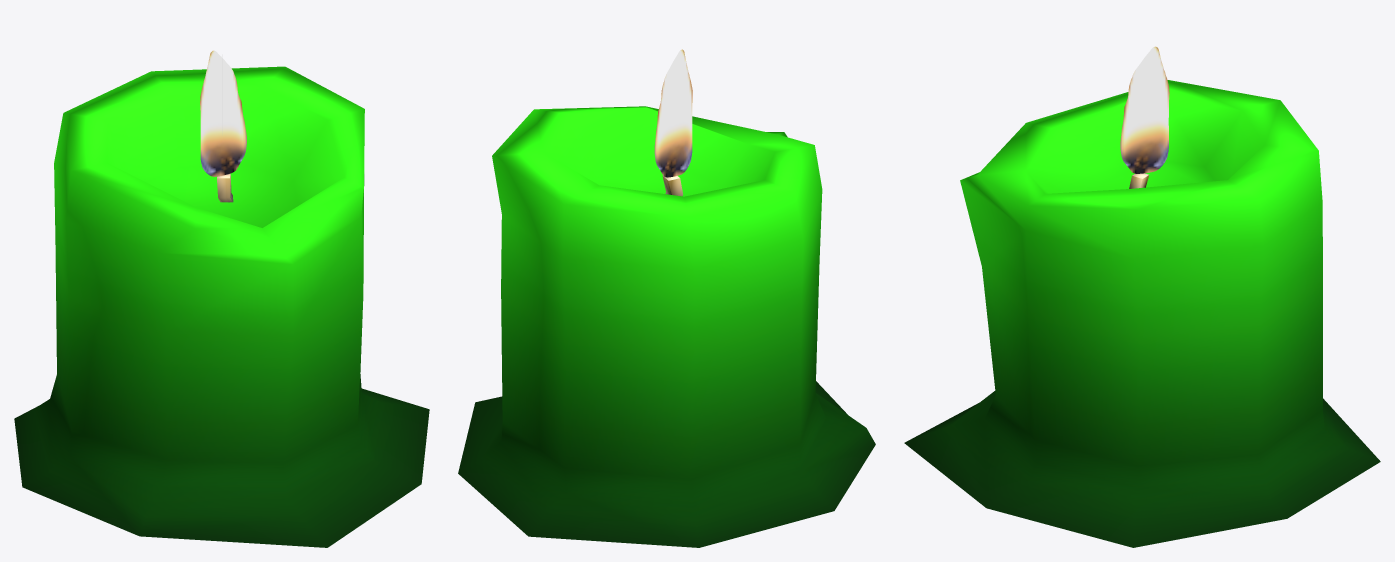
File: CandleShapeC.018.glb
3 renders of one model, left to right at view 1: azimuth 30°, elevation 25°; view 2: azimuth 150°, elevation 25°; view 3: azimuth 270°, elevation 25°, orthographic.
Visible parts, largest first — view 1: CandleShapeC.018; view 2: CandleShapeC.018; view 3: CandleShapeC.018.
Boxes of the visible parts, bbox=[...] form: CandleShapeC.018: bbox=[14, 50, 429, 547]; CandleShapeC.018: bbox=[458, 49, 875, 547]; CandleShapeC.018: bbox=[904, 46, 1380, 547].
Size of the model in its own units: 0.1734 by 0.1799 by 0.1889.
2 materials, 2 textured.
